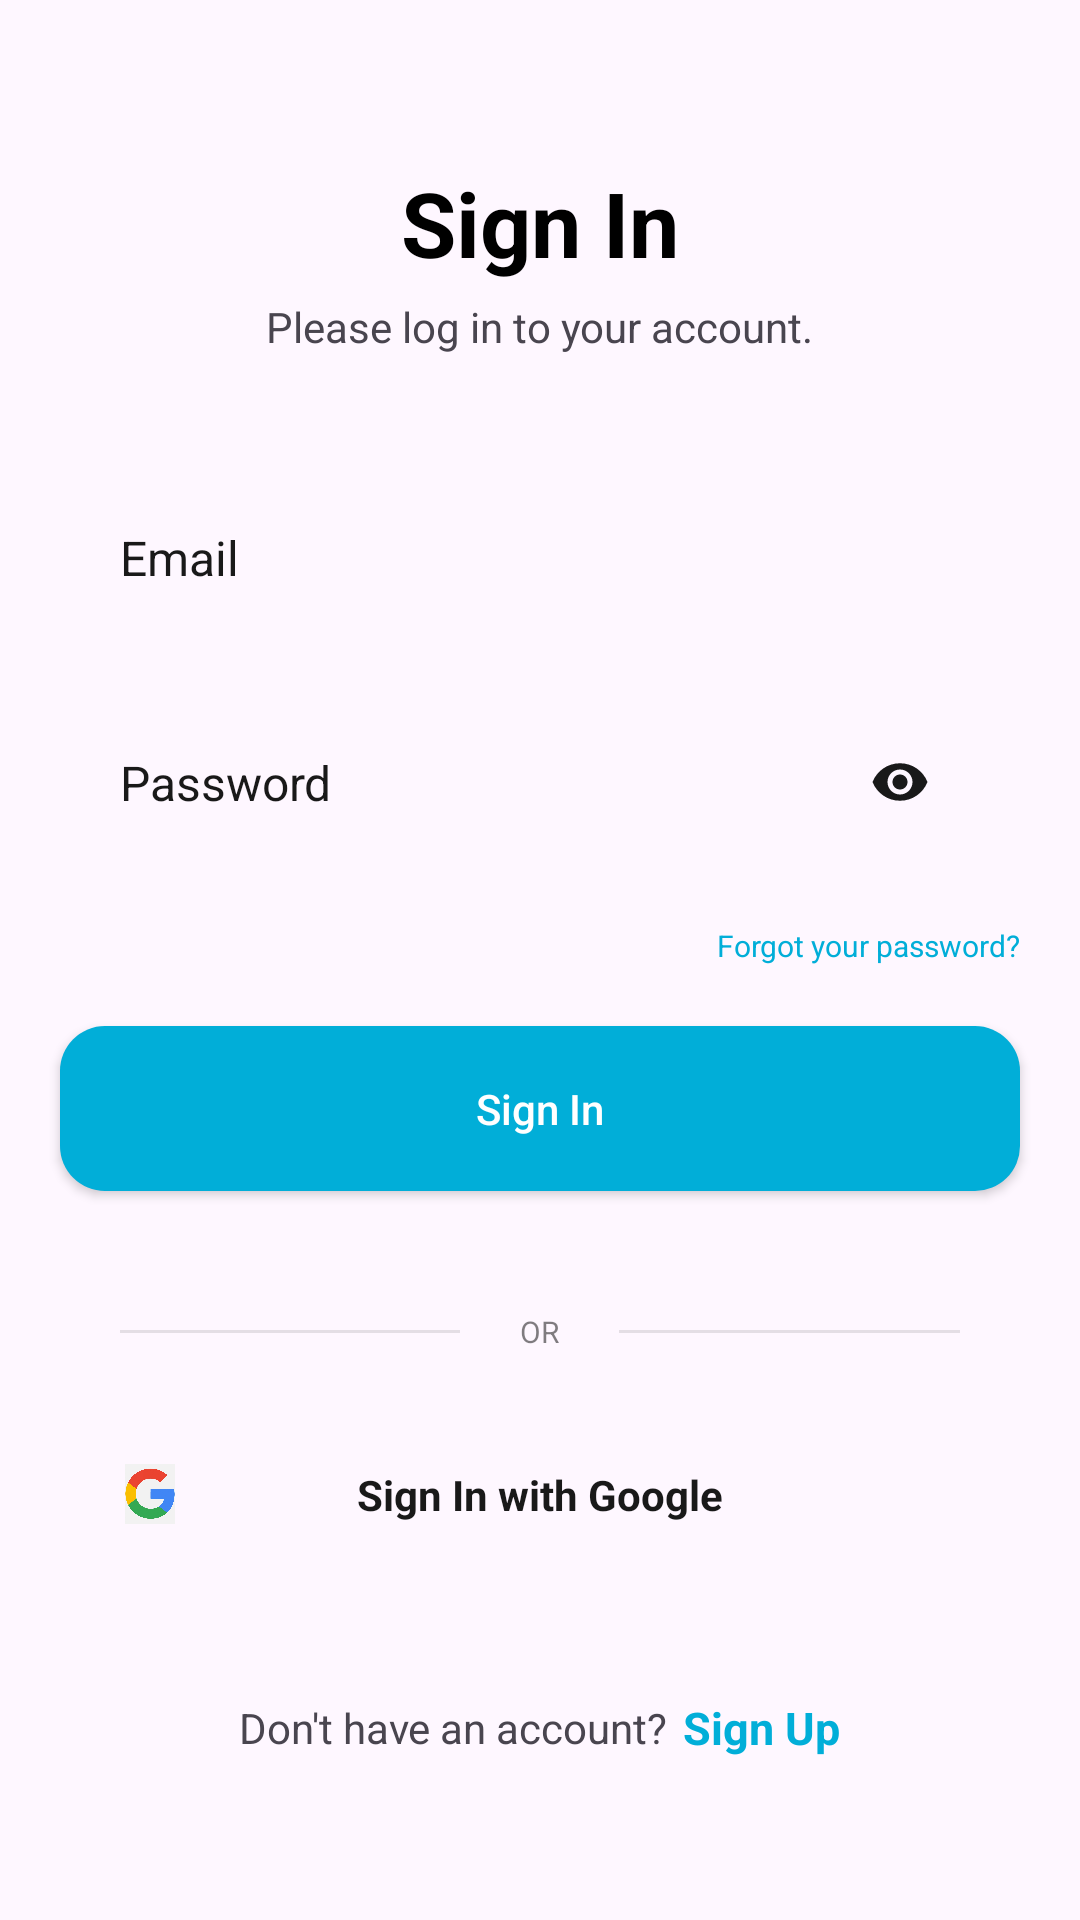

Icon click points for this 1080w x 1920h phone screenshot, format [x,y]:
visibility: [900,782]
